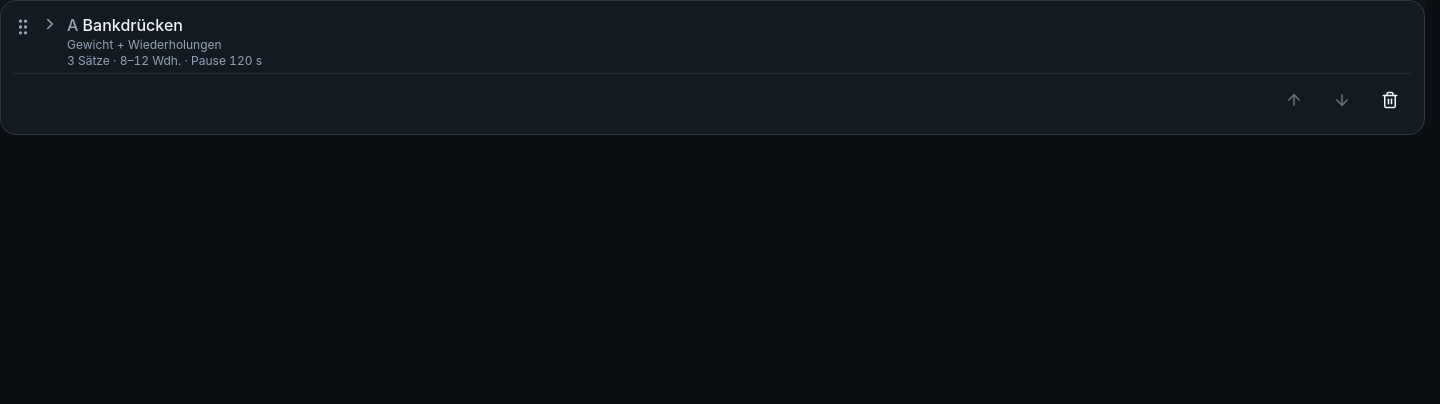
Test case: TemplateExerciseRow › starts collapsed with a summary of the targets and opens the fields on tap
Expected: the text "3 Sätze · 8–12 Wdh. · Pause 120 s" is shown, top-left (67, 53), bottom-right (262, 68)
Click the button that starts with "Bankdrücken" at (133, 25), box top-left (41, 13), bottom-right (1412, 69)
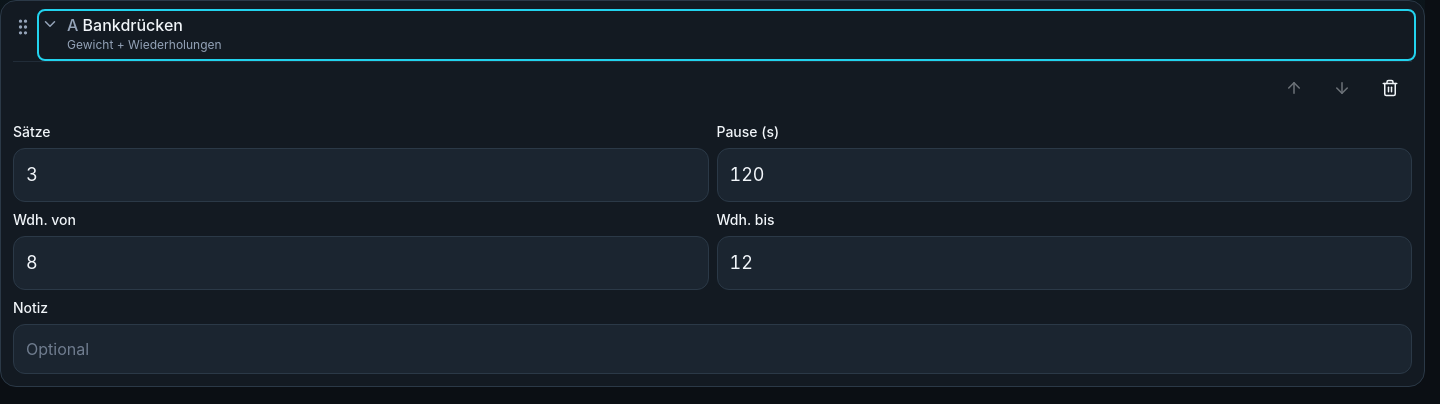
Result: the field labelled "Sätze" is shown at top-left (13, 148), bottom-right (708, 202)
Result: the text "3 Sätze · 8–12 Wdh. · Pause 120 s" is gone
